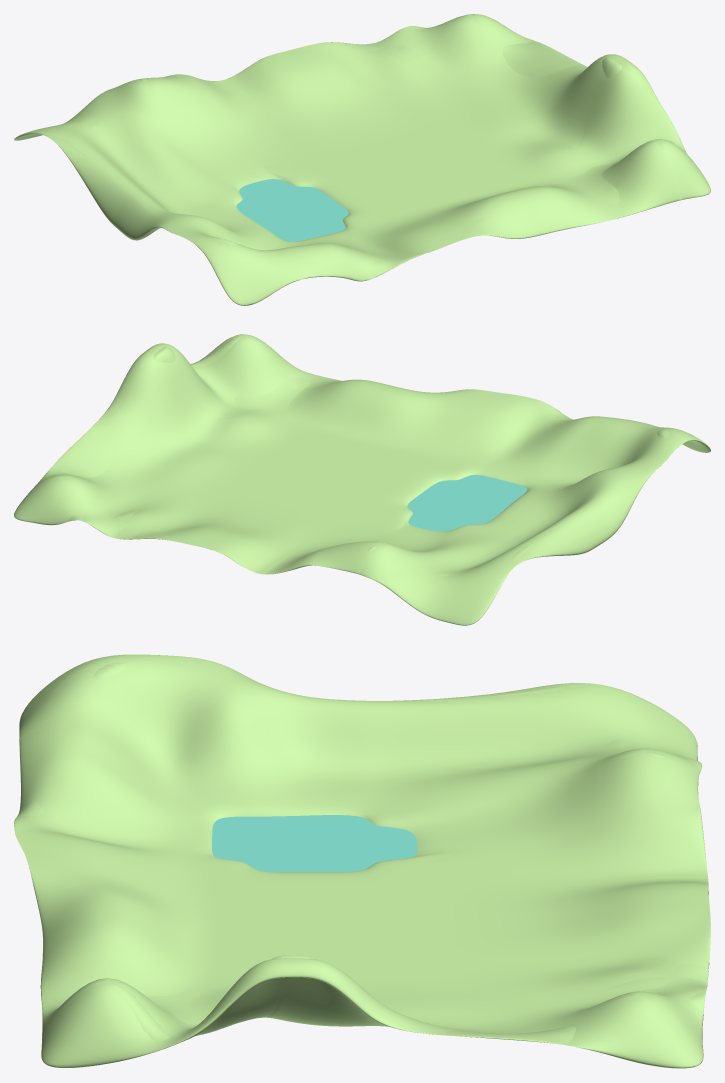
File: floor.fbx
3 views of the same model, one above another, from view 1: azimuth 30°, elevation 25°; view 2: azimuth 150°, elevation 25°; view 3: azimuth 270°, elevation 25° (orthographic). The views are drawn at different scales.
Parts seen in each view (by area): view 1: Plane, Cube; view 2: Plane, Cube; view 3: Plane, Cube.
Boxes of the visible parts, x1,y1,x2,y2 form: Plane: [14, 14, 710, 305]; Cube: [236, 179, 348, 241]; Plane: [14, 334, 710, 625]; Cube: [407, 474, 527, 531]; Plane: [14, 654, 710, 1068]; Cube: [212, 815, 417, 872].
Bounding box in the file's own units: 21609 × 3771 × 18012.
